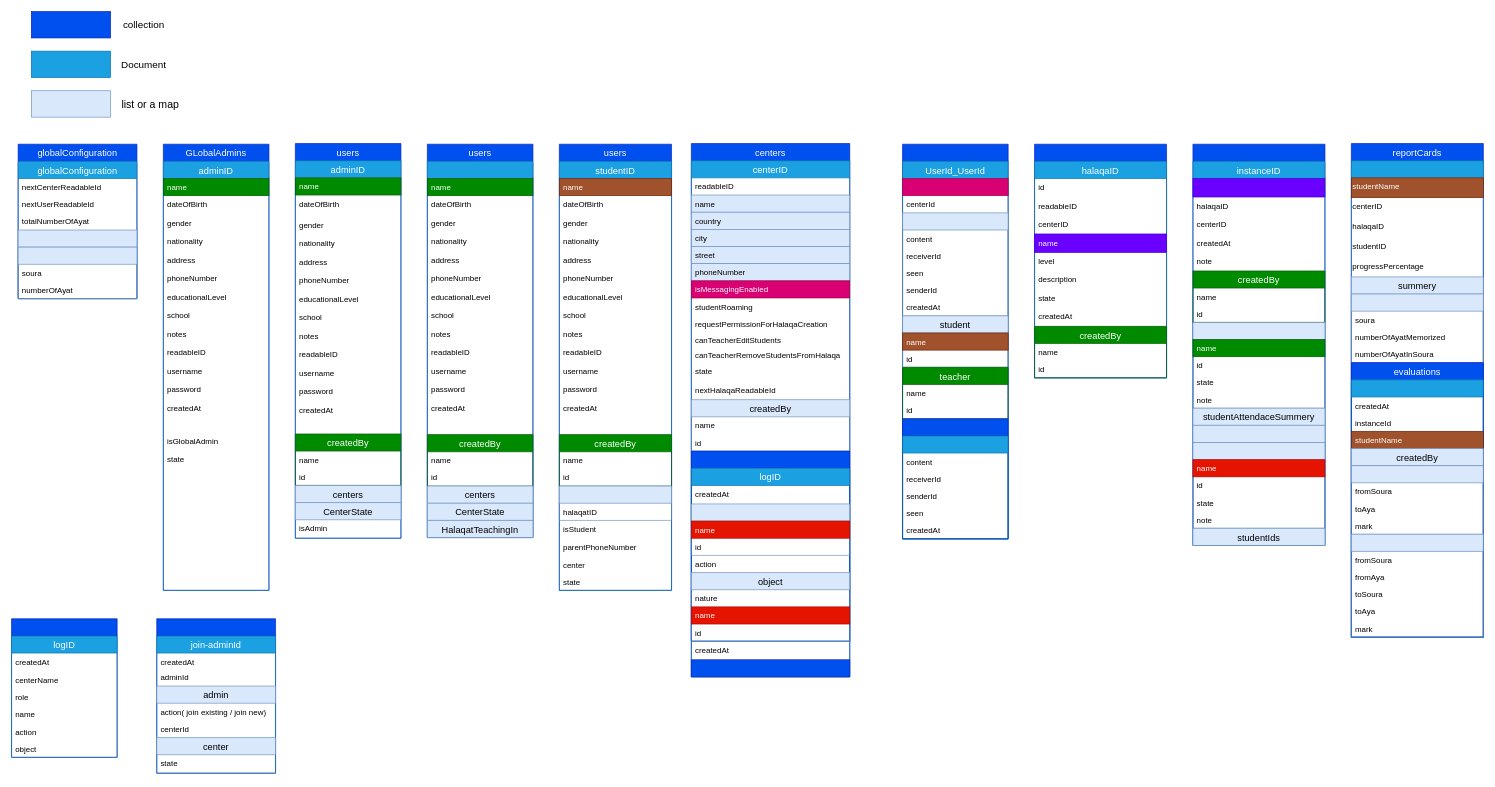
The diagram is 1495 pixels wide and 787 high, and some of its shapes have lost their labels. The shapes that lost their labels are listed below. From the top down, each one's box as (x1, y1, x2, y2) in pixels, then its label:
(902, 178, 1008, 196): isEnabled
(1192, 178, 1325, 197): halaqaName
(17, 229, 137, 299): quran
(902, 212, 1008, 316): latestMessage
(1034, 144, 1167, 378): halaqat
(427, 161, 533, 538): teacherID
(902, 144, 1008, 539): conversations
(1192, 144, 1325, 545): instances
(1192, 322, 1325, 408): teacherSummery
(1351, 160, 1483, 637): userID_halaqaID
(902, 418, 1008, 539): messages
(902, 435, 1008, 539): MessageID
(1192, 425, 1325, 528): studentAttendanceList
(559, 485, 672, 520): HalaqatLearningIn
(1351, 465, 1483, 534): memorized
(1351, 379, 1483, 637): evaluationID
(691, 503, 850, 555): user
(691, 450, 850, 641): centerLogs
(1351, 534, 1483, 637): rehearsed
(11, 618, 117, 757): adminLogs
(691, 659, 850, 677): centerRequests
(156, 618, 276, 773): globalAdminRequest
